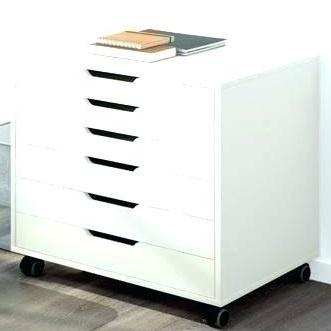cabinet_door: (15, 232, 210, 279), (16, 155, 215, 190), (16, 195, 215, 229), (20, 69, 211, 101), (17, 102, 214, 133), (15, 128, 215, 155)
handle: (85, 153, 143, 174), (87, 227, 139, 249), (86, 67, 142, 86), (87, 191, 140, 211), (86, 126, 141, 145), (85, 97, 142, 115)
